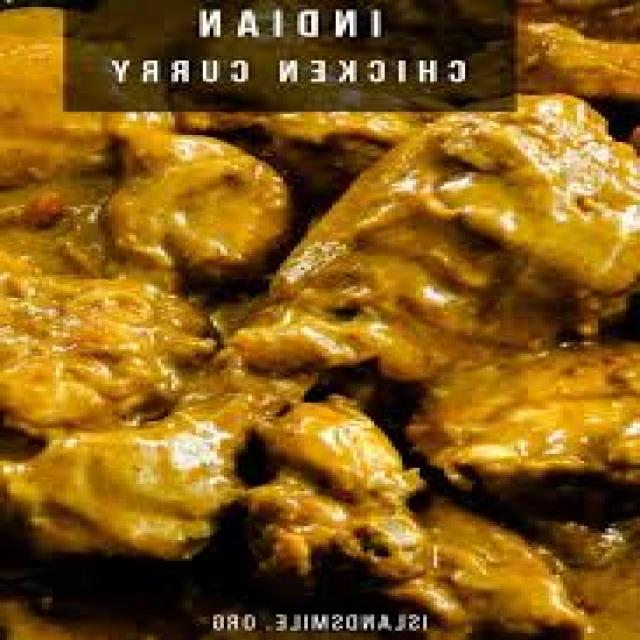Chicken Curry: (0, 130, 637, 608)
